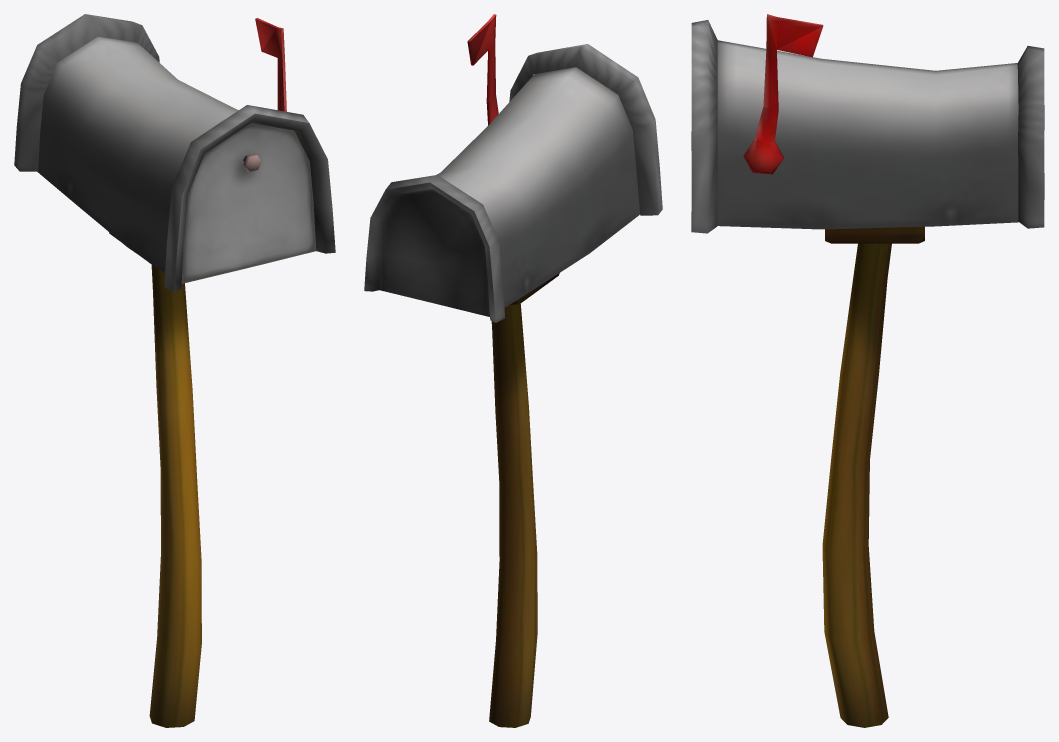
File: mailbox_house.glb
The picture shows the model from 3 angles, left to right: view 1: azimuth 30°, elevation 25°; view 2: azimuth 150°, elevation 25°; view 3: azimuth 270°, elevation 25°; orthographic projection. The views are drawn at different scales.
Parts seen in each view (by area): view 1: body, mailbox_post, mailbox_door1, mailbox_trim, mailbox_backdoor, mailbox_flag; view 2: body, mailbox_post, mailbox_backdoor, mailbox_trim, mailbox_flag; view 3: body, mailbox_post, mailbox_trim, mailbox_backdoor, mailbox_flag, mailbox_posttop.
Boxes of the visible parts, x1=… form: body: x1=37, y1=37, x2=238, y2=272; mailbox_post: x1=149, y1=264, x2=201, y2=727; mailbox_door1: x1=181, y1=123, x2=316, y2=283; mailbox_trim: x1=164, y1=105, x2=335, y2=291; mailbox_backdoor: x1=14, y1=14, x2=159, y2=171; mailbox_flag: x1=255, y1=18, x2=286, y2=111; body: x1=436, y1=67, x2=640, y2=307; mailbox_post: x1=489, y1=304, x2=537, y2=727; mailbox_backdoor: x1=364, y1=175, x2=505, y2=322; mailbox_trim: x1=509, y1=44, x2=662, y2=215; mailbox_flag: x1=467, y1=14, x2=498, y2=125; body: x1=717, y1=40, x2=1018, y2=229; mailbox_post: x1=822, y1=243, x2=891, y2=727; mailbox_trim: x1=691, y1=20, x2=717, y2=233; mailbox_backdoor: x1=1017, y1=46, x2=1044, y2=228; mailbox_flag: x1=743, y1=14, x2=823, y2=174; mailbox_posttop: x1=825, y1=226, x2=924, y2=243.
Size of the model in its own units: 0.8599 by 3.5 by 1.52.
Materials: 7 (7 with a texture image).
